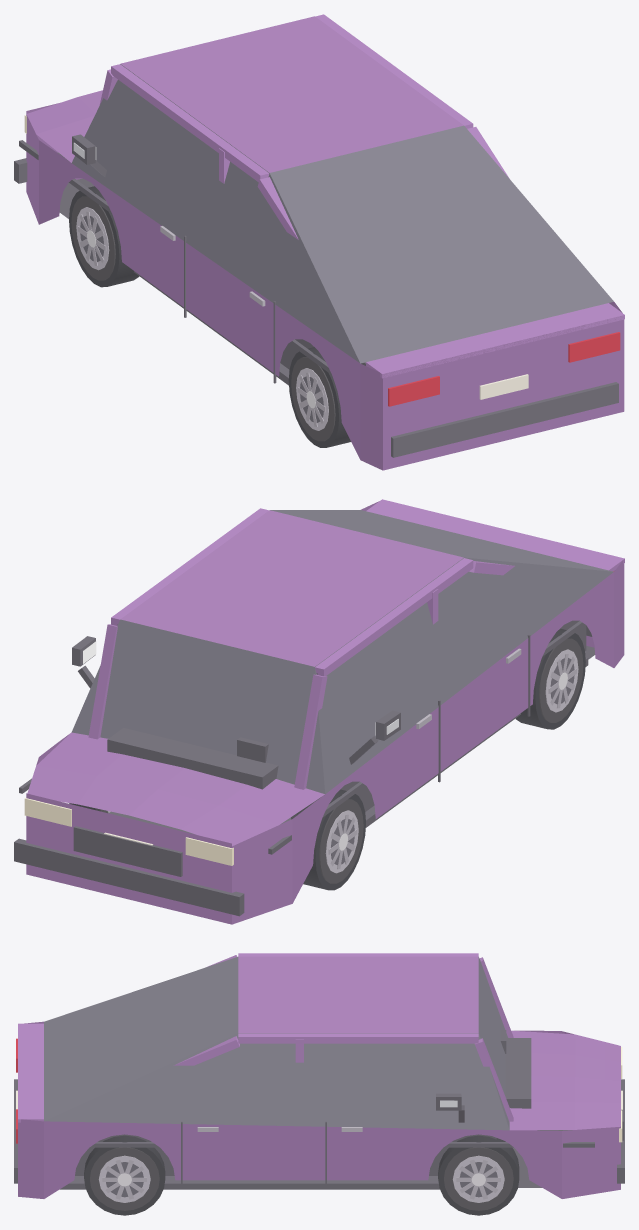
The model's file is sedan.glb.
The picture shows the model from 3 angles, top to bottom: view 1: azimuth 30°, elevation 25°; view 2: azimuth 150°, elevation 25°; view 3: azimuth 270°, elevation 25°; orthographic projection. The views are drawn at different scales.
Parts seen in each view (by area): view 1: StaticWindowFaces, Body, ExteriorDetails, Trunk, Cabin, WheelFL, WheelRL, Hood, RearWindow; view 2: Body, StaticWindowFaces, Hood, ExteriorWindowFaces, ExteriorDetails, Cabin, Dashboard, Trunk, WheelRL, WheelFL, Windshield, Floor (+2 smaller); view 3: Body, ExteriorWindowFaces, StaticWindowFaces, Hood, WheelFR, WheelRR, Cabin, Floor, Trunk, ExteriorDetails, Dashboard, Windshield (+2 smaller).
Part boxes in pixels (<box>): StaticWindowFaces: <box>72,64,613,363</box>; Body: <box>26,16,624,470</box>; ExteriorDetails: <box>14,115,620,457</box>; Trunk: <box>366,303,624,378</box>; Cabin: <box>111,14,473,183</box>; WheelFL: <box>69,186,139,287</box>; WheelRL: <box>288,347,350,447</box>; Hood: <box>26,90,102,162</box>; RearWindow: <box>257,127,509,239</box>; Body: <box>26,501,624,924</box>; StaticWindowFaces: <box>72,510,613,794</box>; Hood: <box>27,732,324,846</box>; ExteriorWindowFaces: <box>71,620,324,793</box>; ExteriorDetails: <box>14,571,613,916</box>; Cabin: <box>111,508,473,676</box>; Dashboard: <box>107,728,278,789</box>; Trunk: <box>366,499,624,571</box>; WheelRL: <box>515,628,585,729</box>; WheelFL: <box>296,789,365,890</box>; Windshield: <box>88,624,327,789</box>; Floor: <box>108,657,588,834</box>; Body: <box>18,956,620,1198</box>; ExteriorWindowFaces: <box>45,958,509,1130</box>; StaticWindowFaces: <box>44,957,509,1129</box>; Hood: <box>509,1030,620,1130</box>; WheelFR: <box>438,1135,519,1215</box>; WheelRR: <box>84,1135,165,1215</box>; Cabin: <box>238,953,478,1062</box>; Floor: <box>60,1176,439,1189</box>; Trunk: <box>18,1023,43,1122</box>; ExteriorDetails: <box>14,1038,624,1187</box>; Dashboard: <box>505,1038,531,1108</box>; Windshield: <box>475,957,513,1121</box>.
Size of the model in its own units: 2.23 by 1.45 by 4.66.
